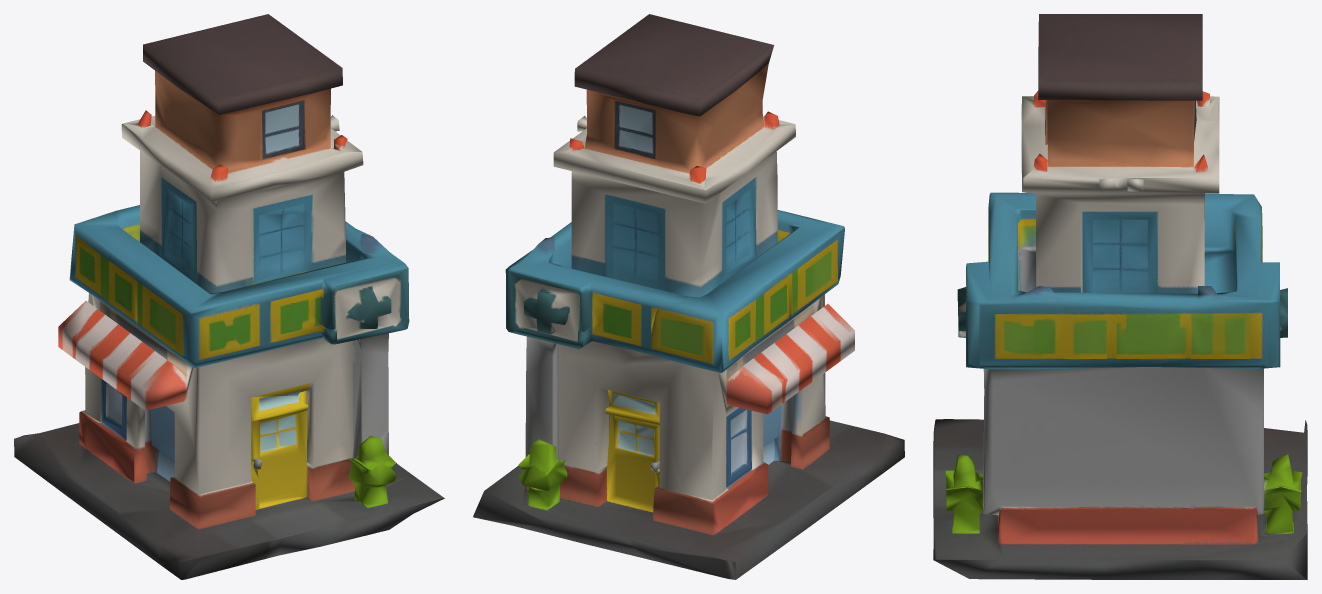
Rendered from pharmacy.glb.
3 views of the same model, side by side, from view 1: azimuth 30°, elevation 25°; view 2: azimuth 150°, elevation 25°; view 3: azimuth 270°, elevation 25° (orthographic). The views are drawn at different scales.
Visible parts, largest first — view 1: tripo_node_90017b2d-242a-4381-a490-1479fd5e6431; view 2: tripo_node_90017b2d-242a-4381-a490-1479fd5e6431; view 3: tripo_node_90017b2d-242a-4381-a490-1479fd5e6431.
Part boxes in pixels (x1,y1,x2,y2): tripo_node_90017b2d-242a-4381-a490-1479fd5e6431: (14,14,444,579); tripo_node_90017b2d-242a-4381-a490-1479fd5e6431: (473,14,904,579); tripo_node_90017b2d-242a-4381-a490-1479fd5e6431: (933,14,1307,579).
Size of the model in its own units: 0.6316 by 0.9789 by 0.7057.
Materials: 1 (1 with a texture image).
